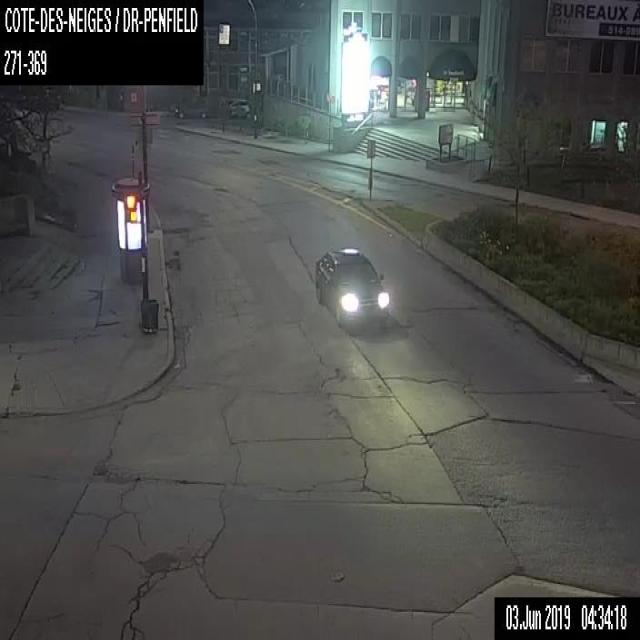vehicle: (313, 243, 391, 329), (174, 96, 210, 118), (224, 96, 251, 118)
